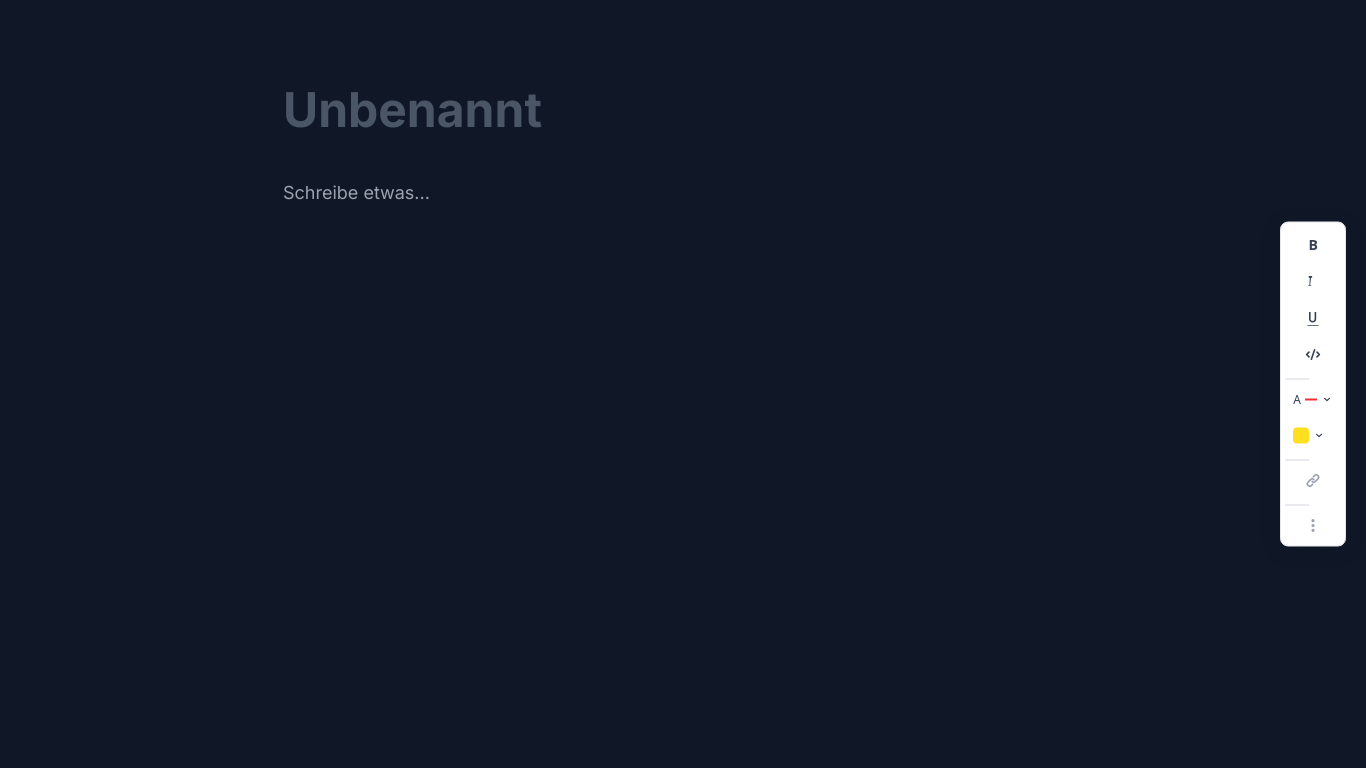
Scenario: MainContent Component › shows last edited timestamp when note has content
In the field with placeholder "Unbenannt": (683, 110) [283,72,1083,147], type "Test Note"
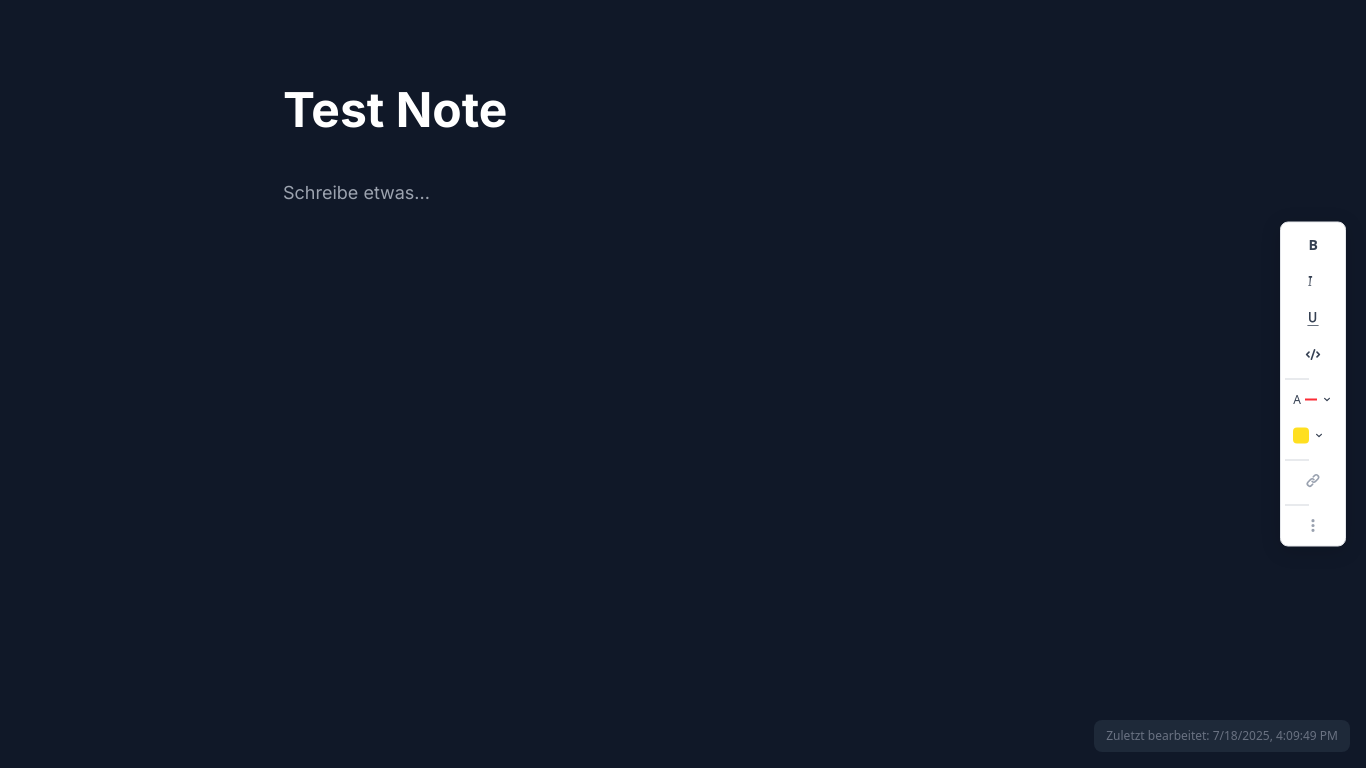
Now the text "Zuletzt bearbeitet: 7/18/2025, 4:09:49 PM" is shown, box [1094,720,1350,752]
